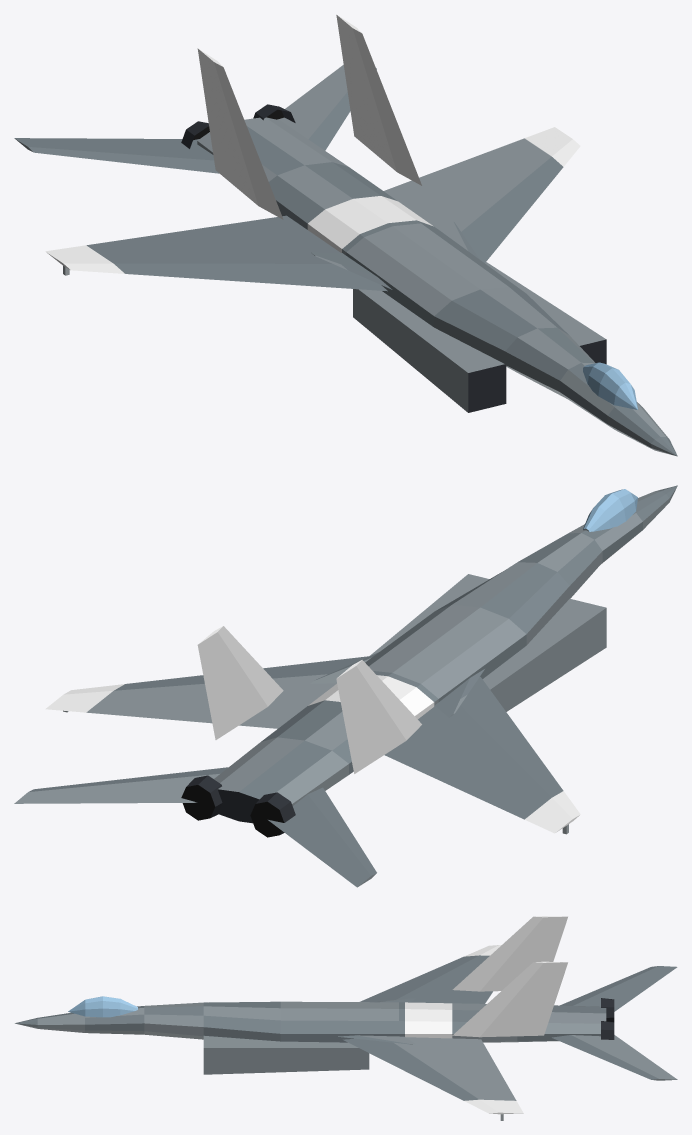
3 views of the same model, one above another, from view 1: azimuth 30°, elevation 25°; view 2: azimuth 150°, elevation 25°; view 3: azimuth 270°, elevation 25° (orthographic). The views are drawn at different scales.
Parts seen in each view (by area): view 1: body; view 2: body; view 3: body.
Part boxes in pixels (x1,y1,x2,y2): body: [14, 14, 677, 456]; body: [14, 485, 677, 887]; body: [15, 916, 677, 1120].
Bounding box in the file's own units: 14.7 × 4.6 × 24.6.
